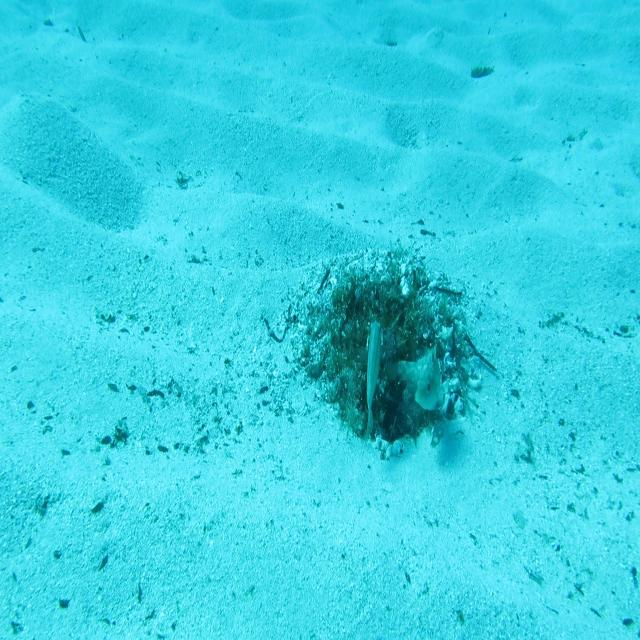BEND: (384, 340, 446, 416)
core_nest: (355, 291, 397, 344)
female: (363, 317, 383, 446)
nest: (279, 229, 487, 472)
vegetation: (467, 63, 495, 82)
